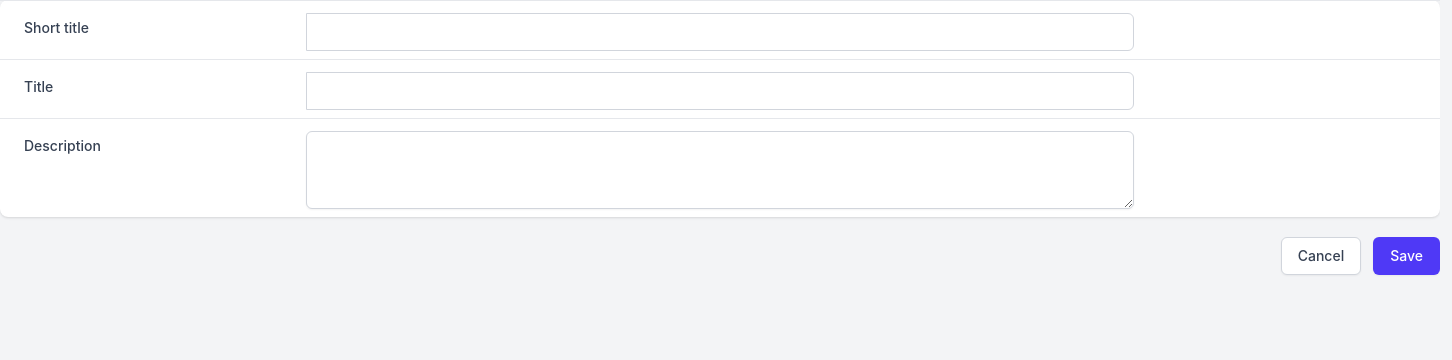
AddEditObjectPage › Create mode › displays validation errors from 400 response
The width and height of the screenshot is (1452, 360).
Click the button "Save": (1407, 256) x1=1373 y1=237 x2=1440 y2=275
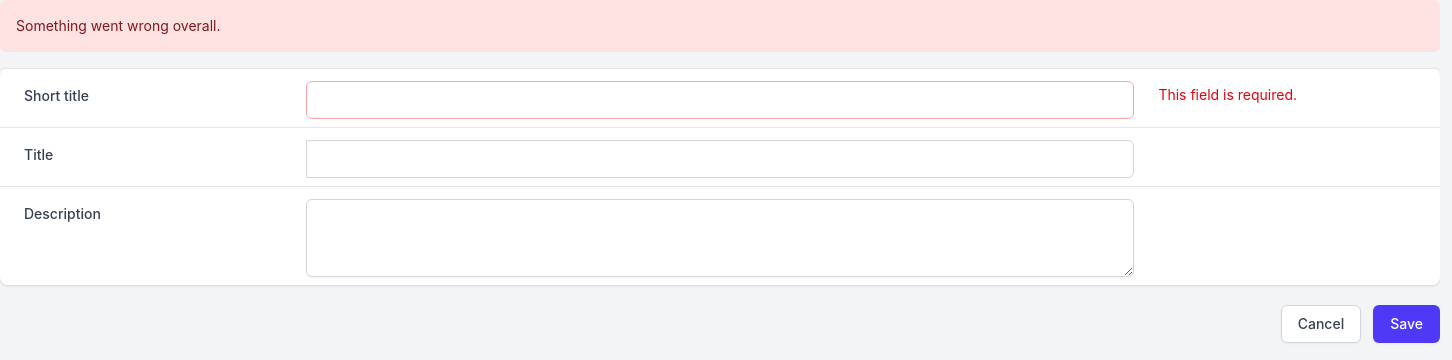
Check: the list item "Something went wrong overall." is shown, box x1=16 y1=17 x2=220 y2=34
Check: the text "This field is required." is shown, box x1=1158 y1=86 x2=1297 y2=103
